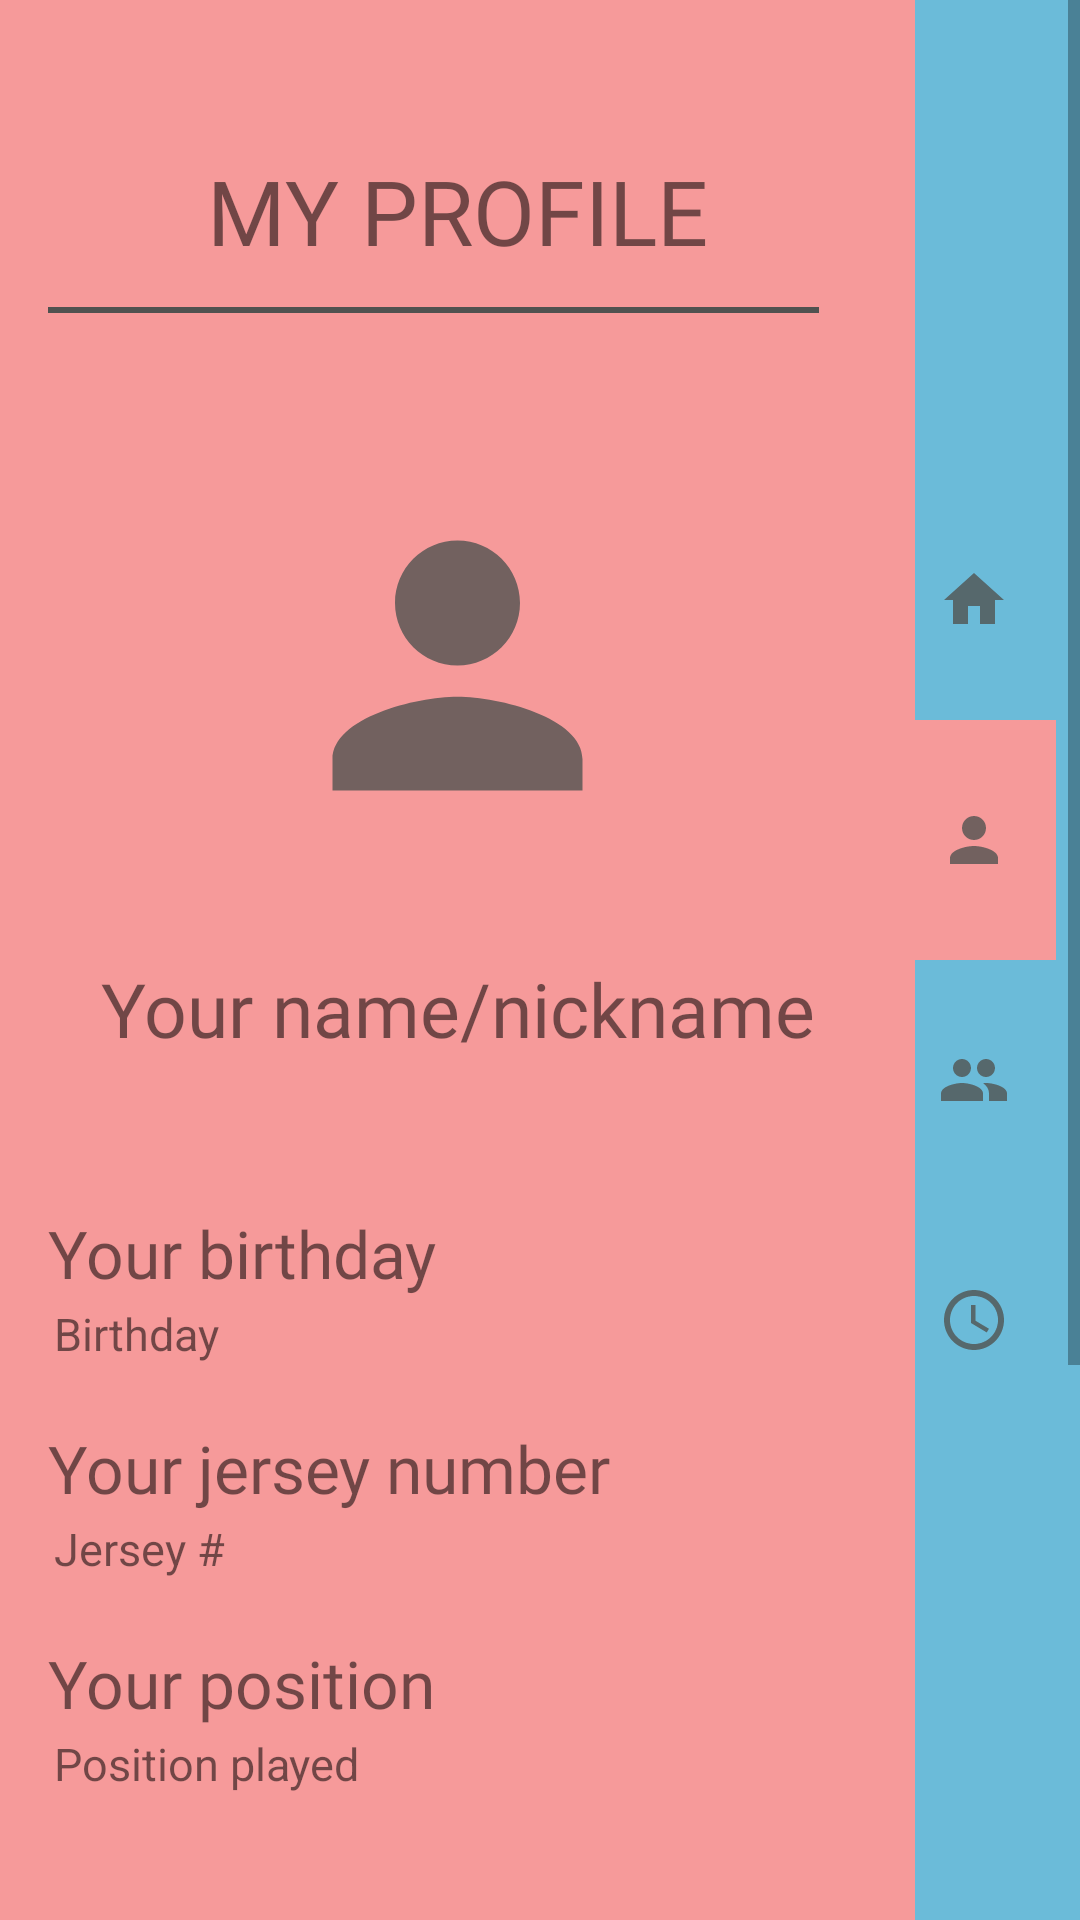

Icons on this 1080x1920 Android screen, each with its box as (x1, y1, x2, y2):
profile: (332, 540, 583, 791), (950, 816, 998, 864)
